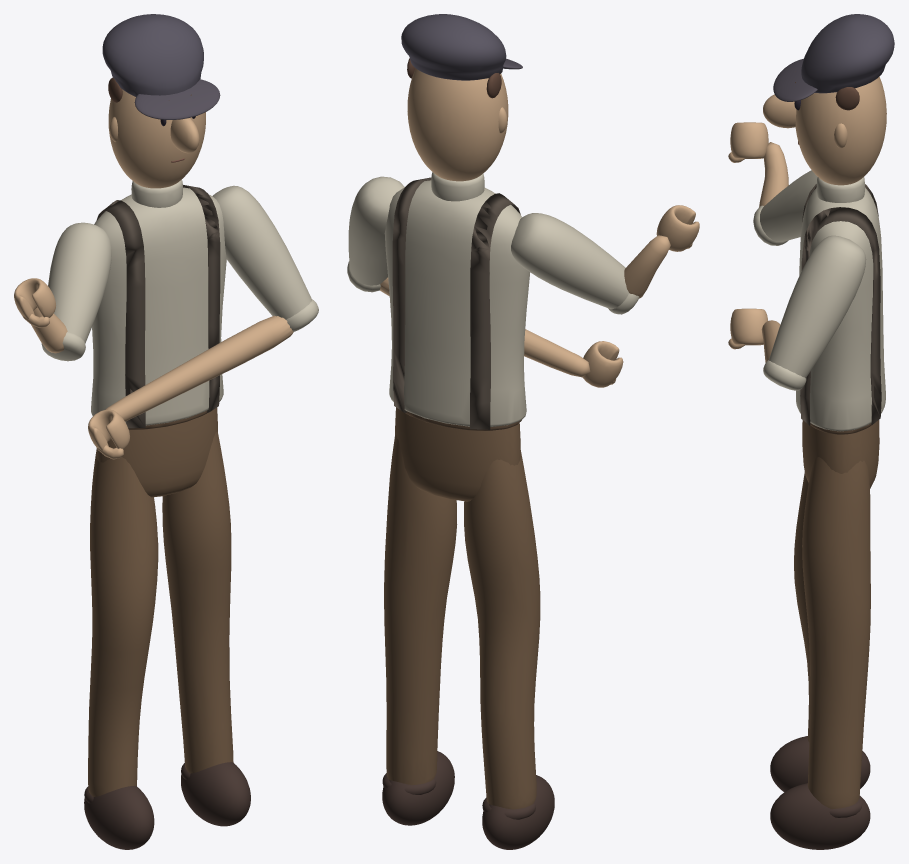
File: Lamplighter.glb
3 views of the same model, side by side, from view 1: azimuth 30°, elevation 25°; view 2: azimuth 150°, elevation 25°; view 3: azimuth 270°, elevation 25° (orthographic). The views are drawn at different scales.
Visible parts, largest first — view 1: lamplighter__Lamplighter__left_leg, lamplighter__Lamplighter__right_leg, lamplighter__Lamplighter__shirt_shell, lamplighter__Lamplighter__flat_cap, lamplighter__Lamplighter__right_arm, lamplighter__Lamplighter__right_hand, lamplighter__Lamplighter__suspenders_shell, lamplighter__Lamplighter__head, lamplighter__Lamplighter__left_arm, lamplighter__Lamplighter__trouser_waist, lamplighter__Lamplighter__left_hand, lamplighter__Lamplighter__collar_shell; view 2: lamplighter__Lamplighter__shirt_shell, lamplighter__Lamplighter__left_leg, lamplighter__Lamplighter__right_leg, lamplighter__Lamplighter__head, lamplighter__Lamplighter__suspenders_shell, lamplighter__Lamplighter__trouser_waist, lamplighter__Lamplighter__left_arm, lamplighter__Lamplighter__flat_cap, lamplighter__Lamplighter__right_arm, lamplighter__Lamplighter__right_hand, lamplighter__Lamplighter__left_hand, lamplighter__Lamplighter__collar_shell; view 3: lamplighter__Lamplighter__right_leg, lamplighter__Lamplighter__shirt_shell, lamplighter__Lamplighter__right_arm, lamplighter__Lamplighter__head, lamplighter__Lamplighter__flat_cap, lamplighter__Lamplighter__suspenders_shell, lamplighter__Lamplighter__left_leg, lamplighter__Lamplighter__trouser_waist, lamplighter__Lamplighter__left_arm, lamplighter__Lamplighter__left_hand, lamplighter__Lamplighter__right_hand, lamplighter__Lamplighter__collar_shell (+1 smaller).
Part boxes in pixels (bbox=[...]): lamplighter__Lamplighter__left_leg: bbox=[84, 452, 158, 849]; lamplighter__Lamplighter__right_leg: bbox=[162, 431, 250, 826]; lamplighter__Lamplighter__shirt_shell: bbox=[91, 187, 226, 425]; lamplighter__Lamplighter__flat_cap: bbox=[102, 14, 220, 119]; lamplighter__Lamplighter__right_arm: bbox=[212, 185, 318, 331]; lamplighter__Lamplighter__right_hand: bbox=[88, 315, 293, 459]; lamplighter__Lamplighter__suspenders_shell: bbox=[96, 185, 220, 428]; lamplighter__Lamplighter__head: bbox=[108, 89, 205, 188]; lamplighter__Lamplighter__left_arm: bbox=[41, 222, 111, 361]; lamplighter__Lamplighter__trouser_waist: bbox=[96, 407, 217, 497]; lamplighter__Lamplighter__left_hand: bbox=[14, 278, 67, 353]; lamplighter__Lamplighter__collar_shell: bbox=[131, 179, 182, 207]; lamplighter__Lamplighter__shirt_shell: bbox=[384, 180, 530, 426]; lamplighter__Lamplighter__left_leg: bbox=[464, 450, 554, 849]; lamplighter__Lamplighter__right_leg: bbox=[382, 435, 457, 825]; lamplighter__Lamplighter__head: bbox=[407, 68, 508, 181]; lamplighter__Lamplighter__suspenders_shell: bbox=[392, 177, 520, 429]; lamplighter__Lamplighter__trouser_waist: bbox=[395, 407, 521, 501]; lamplighter__Lamplighter__left_arm: bbox=[511, 213, 639, 314]; lamplighter__Lamplighter__flat_cap: bbox=[401, 14, 522, 80]; lamplighter__Lamplighter__right_arm: bbox=[347, 176, 404, 292]; lamplighter__Lamplighter__right_hand: bbox=[380, 277, 623, 387]; lamplighter__Lamplighter__left_hand: bbox=[624, 205, 699, 298]; lamplighter__Lamplighter__collar_shell: bbox=[431, 172, 484, 201]; lamplighter__Lamplighter__right_leg: bbox=[770, 457, 870, 849]; lamplighter__Lamplighter__shirt_shell: bbox=[796, 188, 885, 431]; lamplighter__Lamplighter__right_arm: bbox=[763, 235, 866, 390]; lamplighter__Lamplighter__head: bbox=[763, 76, 886, 185]; lamplighter__Lamplighter__flat_cap: bbox=[773, 14, 894, 101]; lamplighter__Lamplighter__suspenders_shell: bbox=[800, 184, 881, 425]; lamplighter__Lamplighter__left_leg: bbox=[770, 472, 870, 792]; lamplighter__Lamplighter__trouser_waist: bbox=[802, 420, 879, 488]; lamplighter__Lamplighter__left_arm: bbox=[753, 170, 817, 245]; lamplighter__Lamplighter__left_hand: bbox=[728, 122, 788, 206]; lamplighter__Lamplighter__right_hand: bbox=[728, 308, 780, 362]; lamplighter__Lamplighter__collar_shell: bbox=[816, 177, 864, 202].
Size of the model in its own units: 0.6446 by 1.55 by 0.291.
